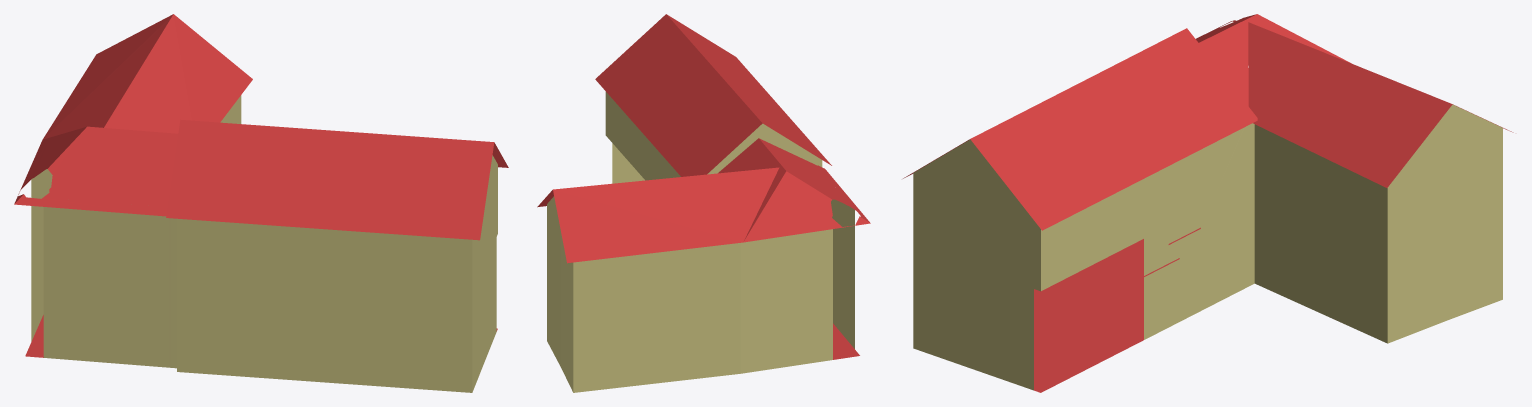
3 renders of one model, left to right at view 1: azimuth 30°, elevation 25°; view 2: azimuth 150°, elevation 25°; view 3: azimuth 270°, elevation 25°, orthographic. The views are drawn at different scales.
Parts seen in each view (by area): view 1: group_10, group_7, group_14, group_3, group_12, group_9, group_13, group_15; view 2: group_5, group_7, group_3, group_14, group_12, group_10, group_9, group_4, group_15, group_13; view 3: group_10, group_5, group_7, group_3, group_11, group_9, group_12.
Part boxes in pixels (<box>): group_10: <box>169,155,497,392</box>; group_7: <box>166,119,508,239</box>; group_14: <box>31,169,168,367</box>; group_3: <box>43,14,252,139</box>; group_12: <box>14,126,178,216</box>; group_9: <box>166,141,494,240</box>; group_13: <box>15,138,166,215</box>; group_15: <box>25,315,43,357</box>; group_5: <box>547,196,747,392</box>; group_7: <box>606,14,831,175</box>; group_3: <box>537,167,779,263</box>; group_14: <box>748,199,854,372</box>; group_12: <box>718,138,870,242</box>; group_10: <box>605,91,822,183</box>; group_9: <box>595,14,831,176</box>; group_4: <box>540,188,745,262</box>; group_15: <box>833,323,859,359</box>; group_13: <box>744,166,869,241</box>; group_10: <box>913,125,1248,390</box>; group_5: <box>1248,104,1502,343</box>; group_7: <box>903,28,1250,217</box>; group_3: <box>1248,22,1513,187</box>; group_11: <box>1034,244,1177,392</box>; group_9: <box>971,110,1257,230</box>; group_12: <box>1196,14,1351,105</box>.
Bounding box in the file's own units: 37.15 × 45.81 × 19.18.
